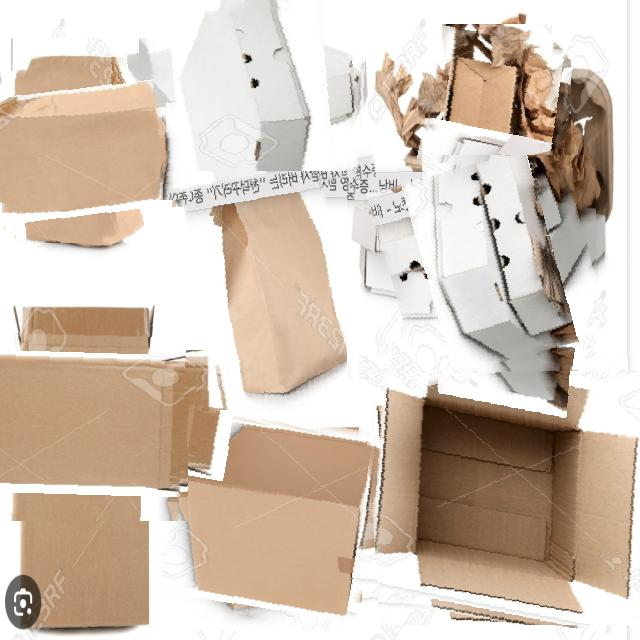biodegradable: (359, 335, 640, 625), (376, 155, 596, 375), (163, 413, 378, 629), (150, 0, 369, 200), (189, 171, 347, 411), (0, 321, 187, 521), (0, 57, 168, 243), (423, 31, 571, 180)
